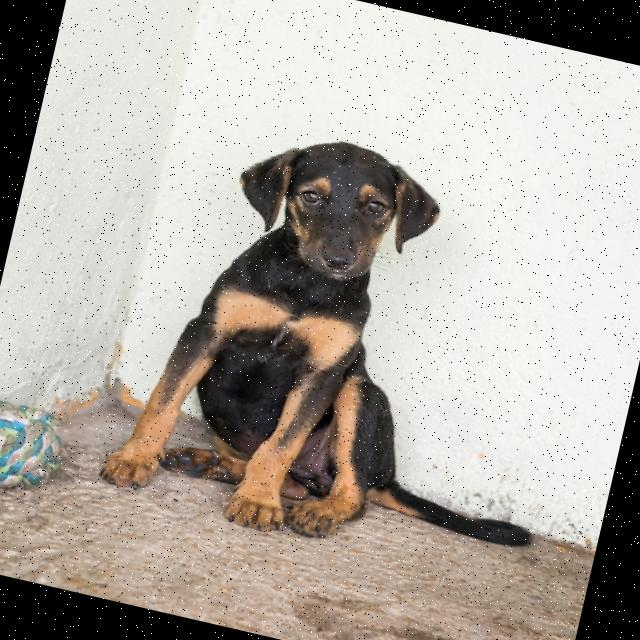Dog: (92, 101, 606, 590)
